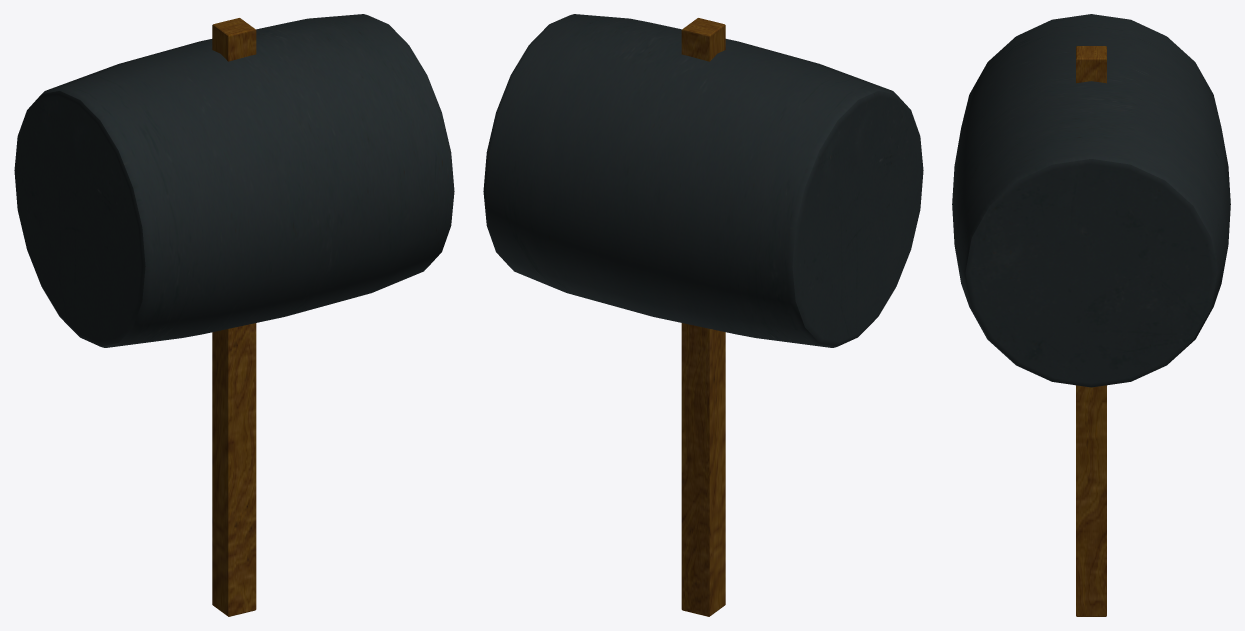
The model's file is hammer.glb.
3 views of the same model, side by side, from view 1: azimuth 30°, elevation 25°; view 2: azimuth 150°, elevation 25°; view 3: azimuth 270°, elevation 25° (orthographic). The views are drawn at different scales.
Visible parts, largest first — view 1: MarioHammer; view 2: MarioHammer; view 3: MarioHammer.
Part boxes in pixels (left/top/right/bottom): MarioHammer: left=14, top=14, right=454, bottom=616; MarioHammer: left=483, top=14, right=923, bottom=616; MarioHammer: left=952, top=14, right=1230, bottom=616.
Bounding box in the file's own units: 0.4631 × 0.825 × 0.3728.
Materials: 1 (1 with a texture image).
